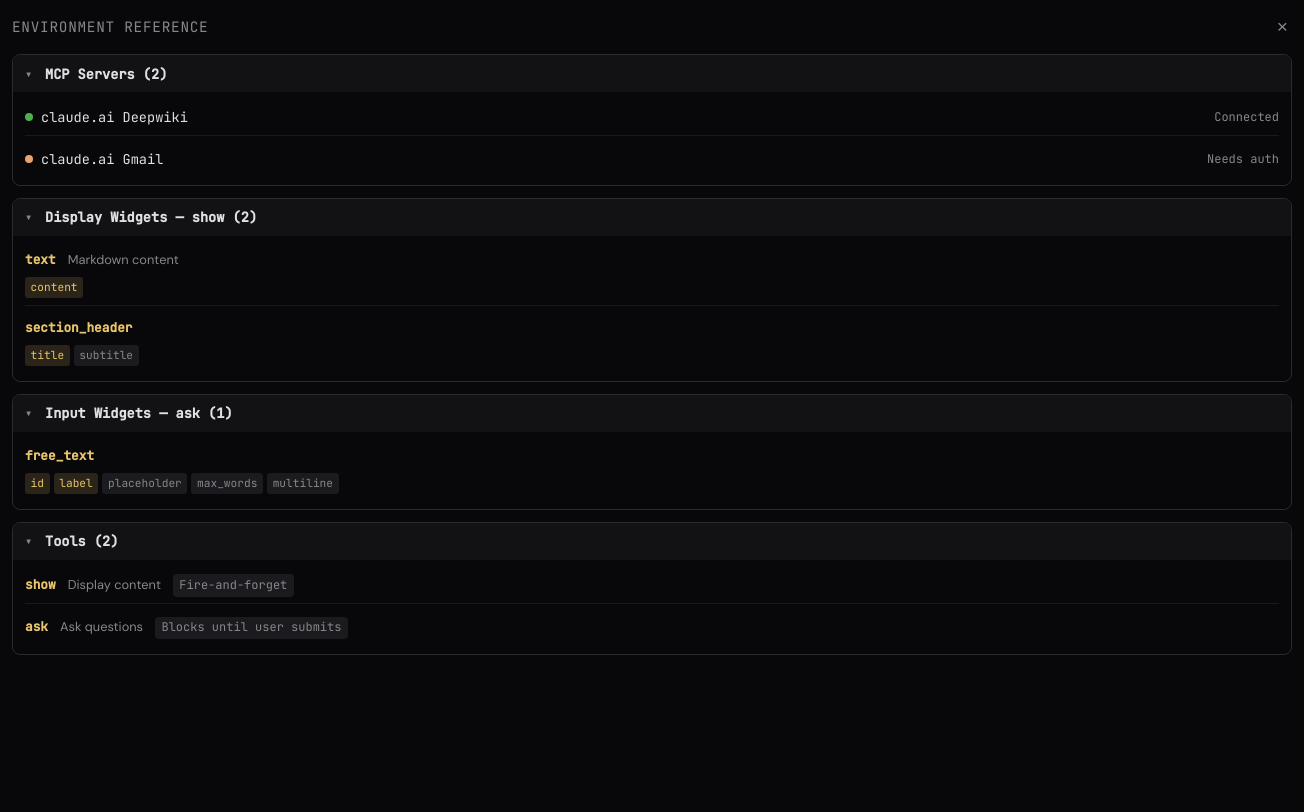
it: EnvironmentReference › collapses sections on toggle
This screenshot has width=1304, height=812.
Click the text "Display Widgets — show (2)".
click(151, 217)  # box [45,208,257,226]
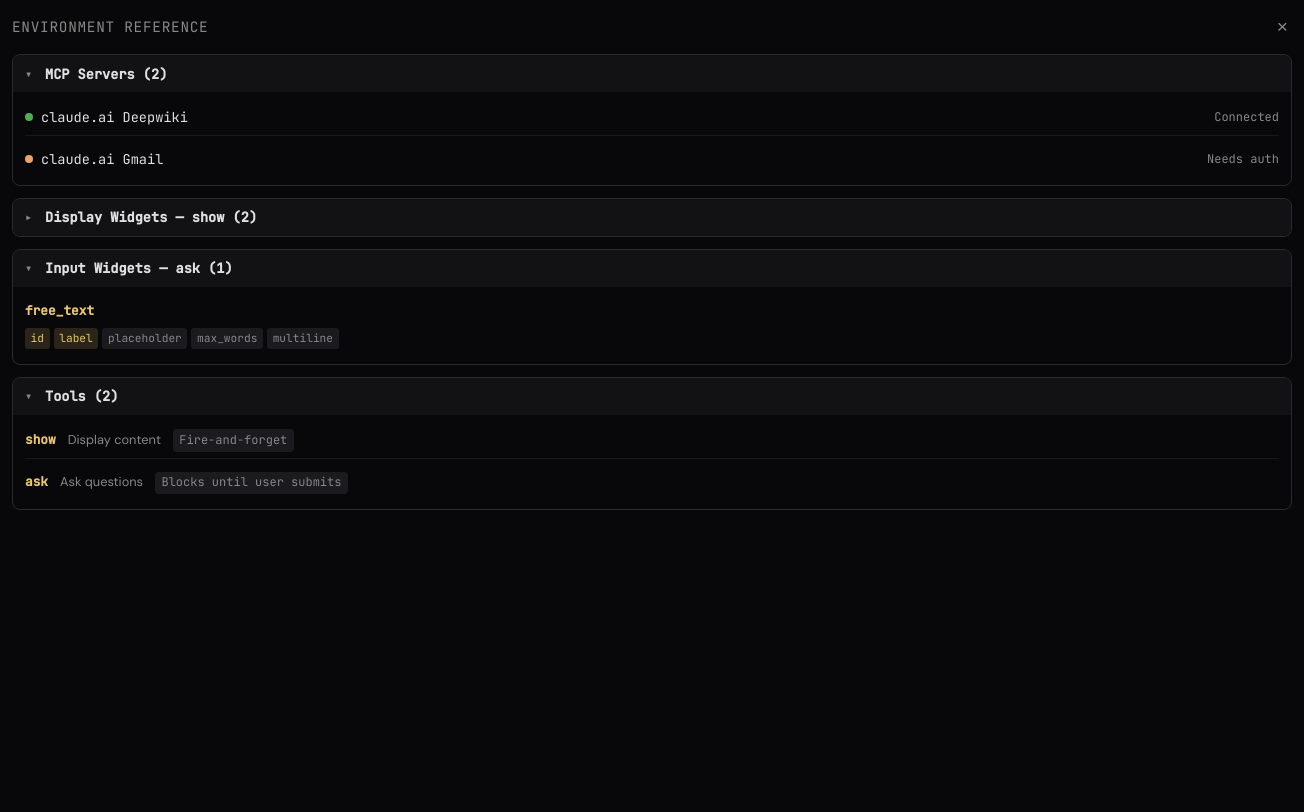
Expected: the text "Markdown content" is gone
